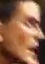kevin: (2, 0, 43, 62)
